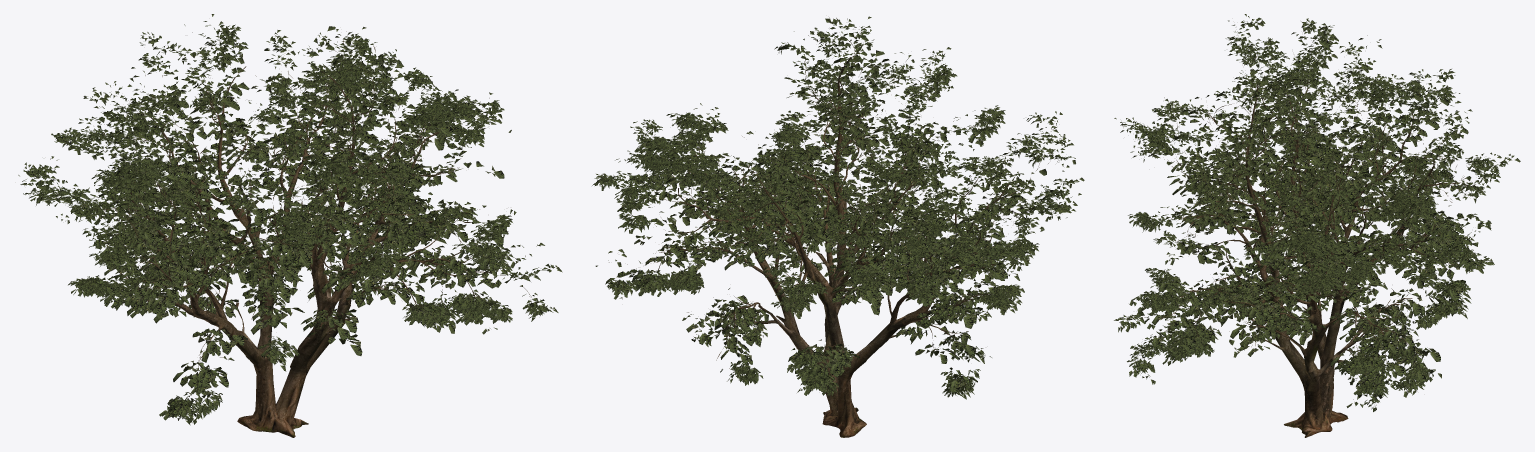
File: jacaranda_tree.glb
The picture shows the model from 3 angles, left to right: view 1: azimuth 30°, elevation 25°; view 2: azimuth 150°, elevation 25°; view 3: azimuth 270°, elevation 25°; orthographic projection. The views are drawn at different scales.
Visible parts, largest first — view 1: jacaranda_tree_LOD0; view 2: jacaranda_tree_LOD0; view 3: jacaranda_tree_LOD0.
Part boxes in pixels (left/top/right/bottom): jacaranda_tree_LOD0: left=18, top=14, right=562, bottom=437; jacaranda_tree_LOD0: left=592, top=16, right=1084, bottom=437; jacaranda_tree_LOD0: left=1114, top=14, right=1520, bottom=437.
Bounding box in the file's own units: 24.16 × 19.33 × 19.05.
3 materials, 3 textured.
